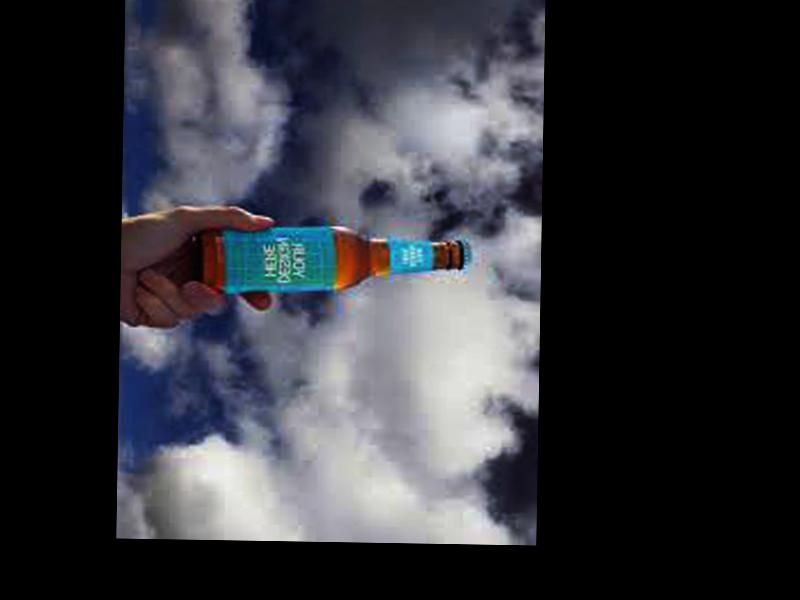Beer: (195, 223, 470, 291)
